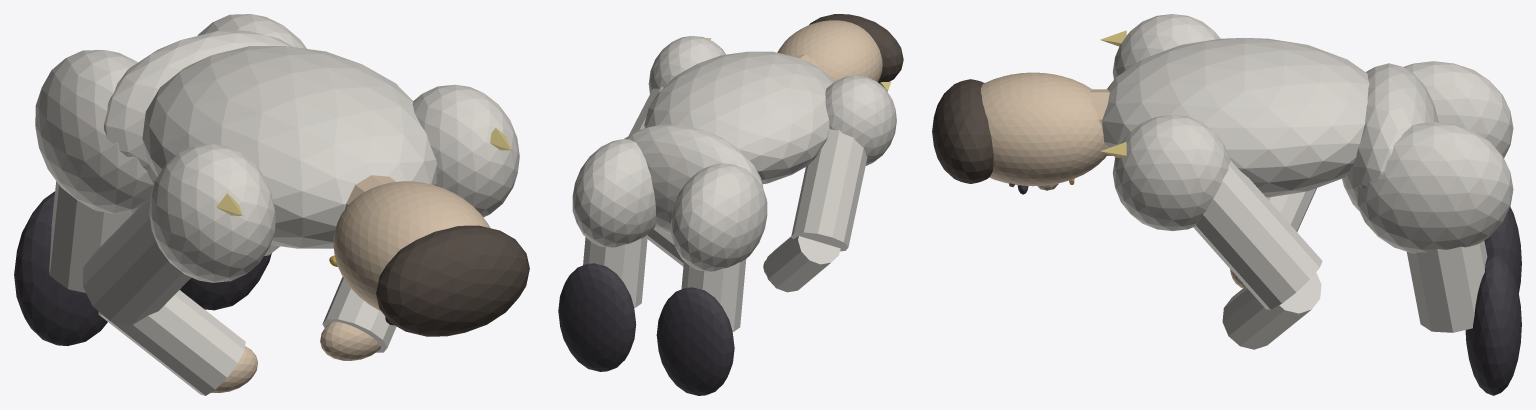
The model's file is player_west_male_GUIDE_ONLY.glb.
The picture shows the model from 3 angles, left to right: view 1: azimuth 30°, elevation 25°; view 2: azimuth 150°, elevation 25°; view 3: azimuth 270°, elevation 25°; orthographic projection. The views are drawn at different scales.
Visible parts, largest first — view 1: world; view 2: world; view 3: world.
Boxes of the visible parts, x1=… form: world: x1=14, y1=14, x2=529, y2=395; world: x1=558, y1=14, x2=903, y2=395; world: x1=932, y1=14, x2=1521, y2=395.
Size of the model in its own units: 0.7054 by 0.68 by 1.18.
